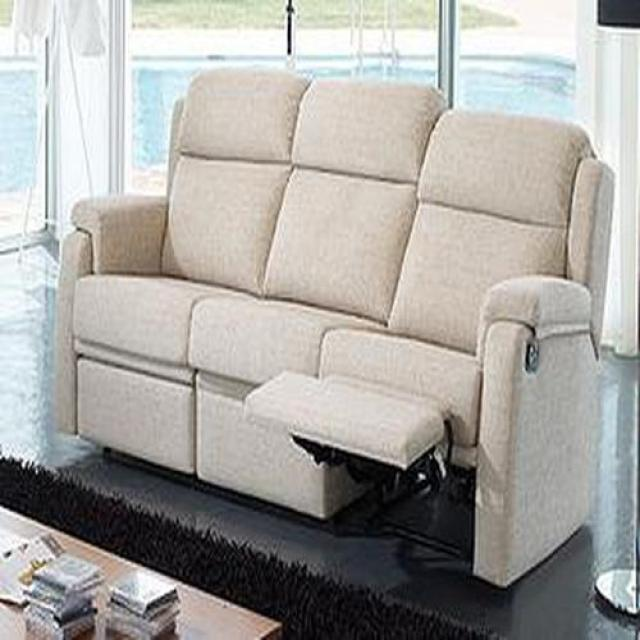sofa: (54, 68, 612, 586)
